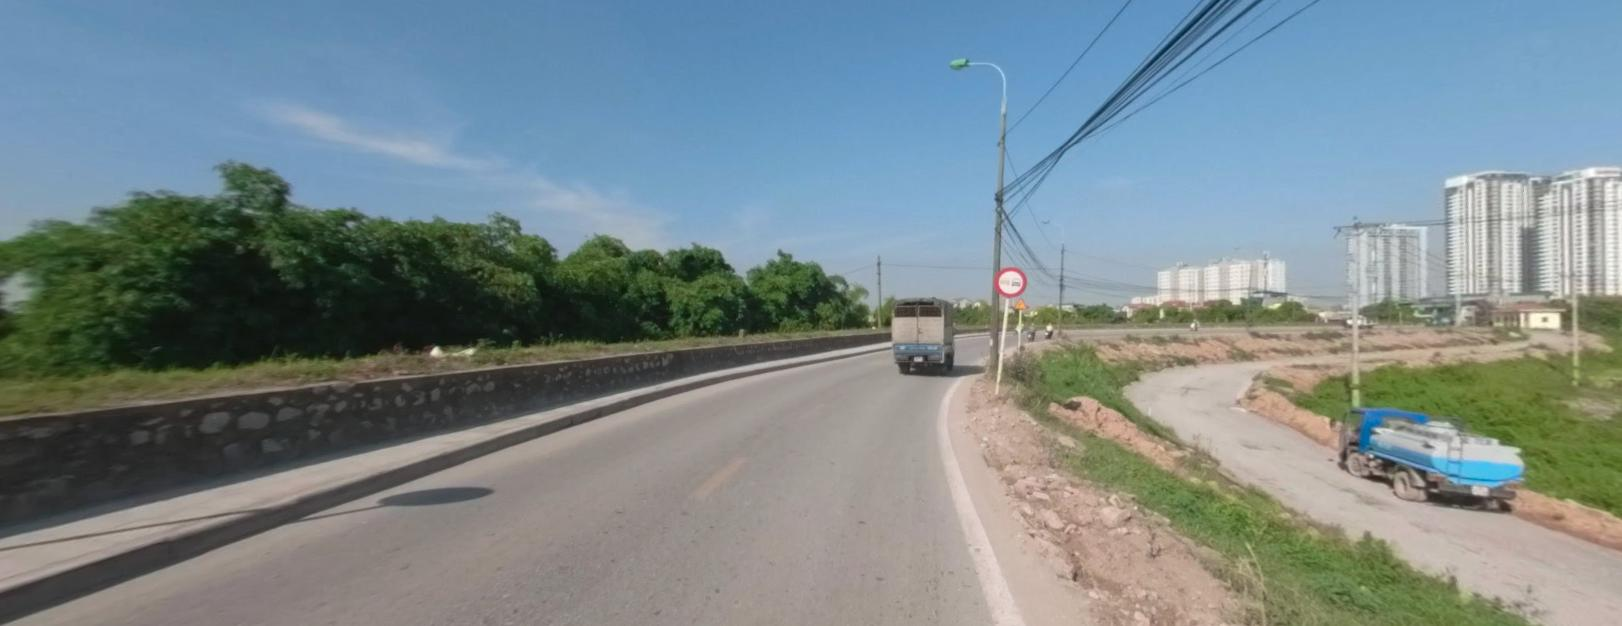Cam con lai: (994, 265, 1025, 294)
Nguy hiem: (1012, 297, 1029, 308)
